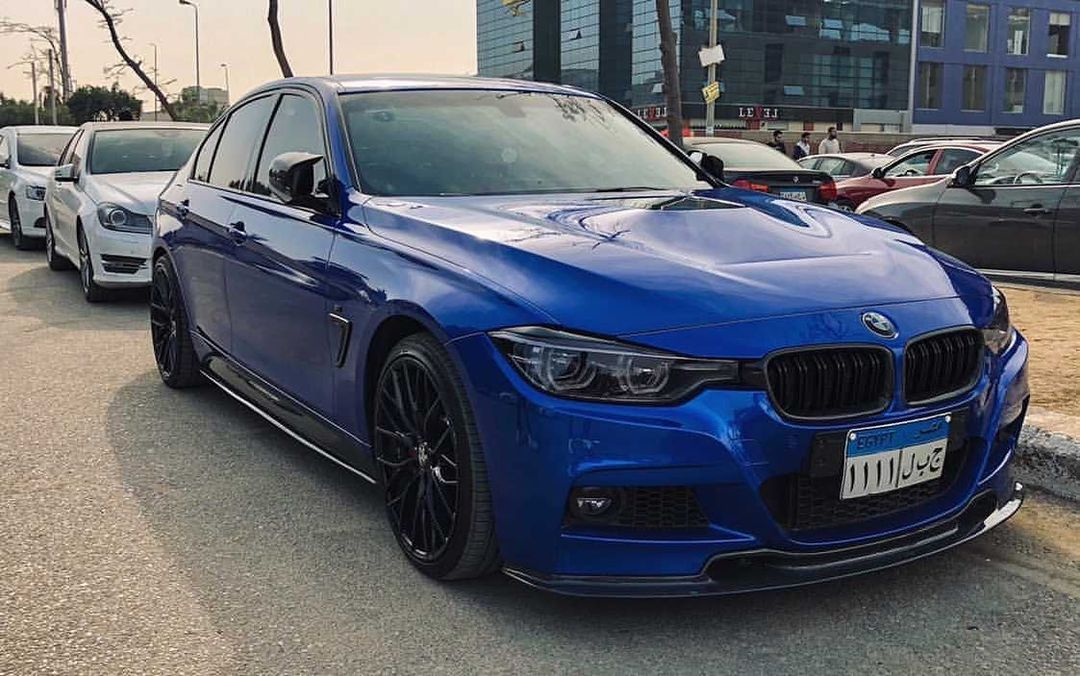carpl: (824, 425, 964, 498)
